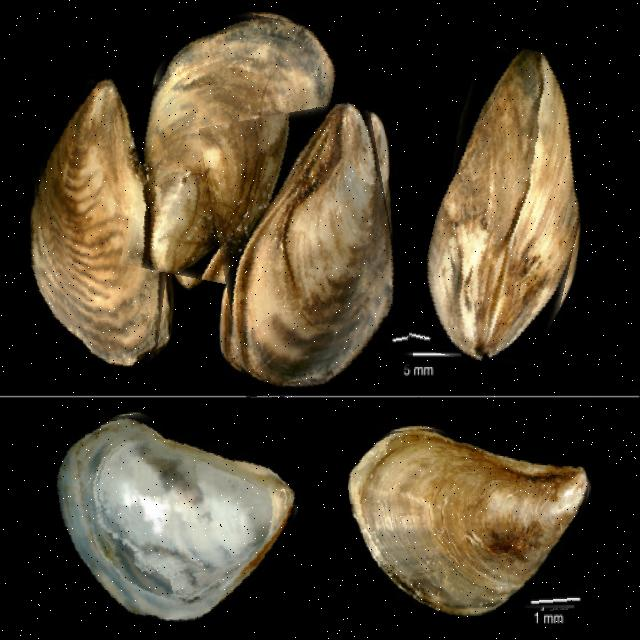Dreissena_bugensis: (423, 44, 598, 372), (132, 6, 332, 290), (56, 403, 306, 629), (210, 105, 404, 392), (347, 422, 595, 620), (23, 76, 181, 373)
